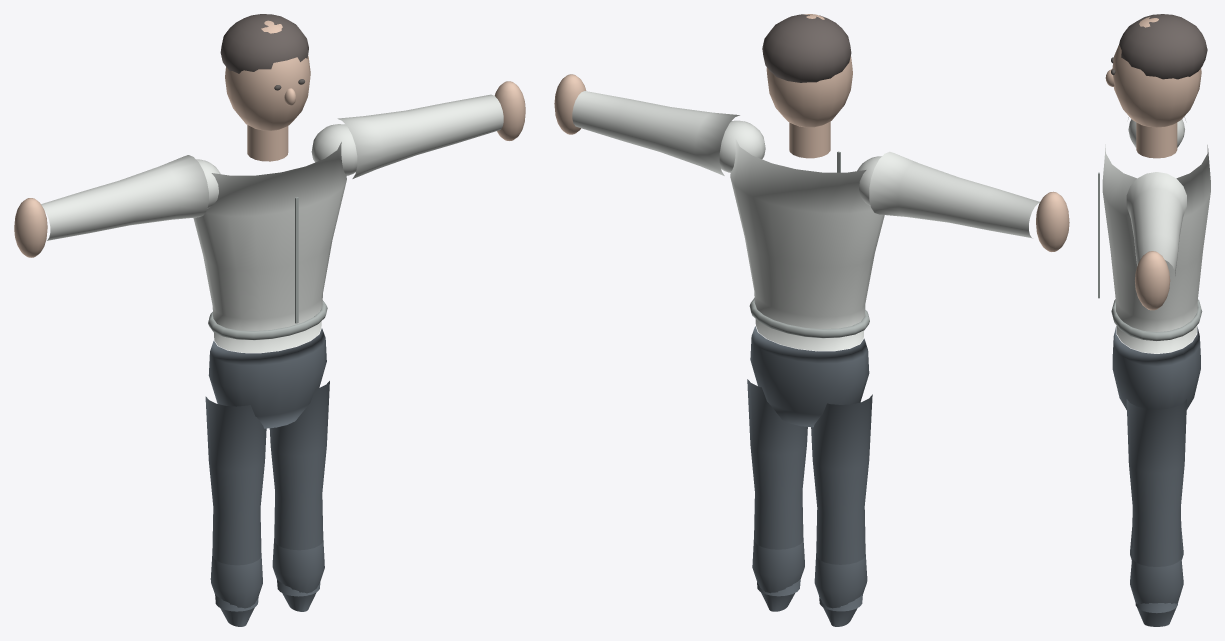
The model's file is original-player-b.glb.
3 views of the same model, side by side, from view 1: azimuth 30°, elevation 25°; view 2: azimuth 150°, elevation 25°; view 3: azimuth 270°, elevation 25° (orthographic).
Parts seen in each view (by area): view 1: FittedTop, FittedLeg_L, FittedArm_L, FittedLeg_R, FittedPelvis, FittedArm_R, Head, Hair, PointedFoot_R, PointedFoot_L, Hand_L, SoftShoulder_R (+3 smaller); view 2: FittedTop, FittedLeg_L, FittedArm_L, FittedLeg_R, FittedPelvis, FittedArm_R, Hair, Head, PointedFoot_L, PointedFoot_R, Hand_L, SoftShoulder_R (+3 smaller); view 3: FittedTop, FittedLeg_R, FittedPelvis, Hair, FittedArm_R, Head, PointedFoot_R, Hand_R, Neck, SoftWaistSeam, SoftShoulder_L, ClothCenterSeam.
Part boxes in pixels (bbox=[...]): FittedTop: bbox=[193, 142, 346, 352]; FittedLeg_L: bbox=[205, 396, 266, 611]; FittedArm_L: bbox=[41, 155, 208, 240]; FittedLeg_R: bbox=[269, 381, 329, 596]; FittedPelvis: bbox=[208, 328, 326, 428]; FittedArm_R: bbox=[337, 94, 503, 178]; Head: bbox=[225, 20, 310, 130]; Hair: bbox=[220, 14, 308, 73]; PointedFoot_R: bbox=[272, 538, 324, 611]; PointedFoot_L: bbox=[210, 553, 262, 626]; Hand_L: bbox=[14, 198, 47, 257]; SoftShoulder_R: bbox=[311, 124, 357, 175]; FittedTop: bbox=[730, 139, 884, 351]; FittedLeg_L: bbox=[811, 394, 872, 611]; FittedArm_L: bbox=[869, 151, 1039, 238]; FittedLeg_R: bbox=[747, 379, 807, 596]; FittedPelvis: bbox=[750, 326, 869, 427]; FittedArm_R: bbox=[572, 91, 739, 175]; Hair: bbox=[762, 14, 851, 82]; Head: bbox=[766, 14, 852, 127]; PointedFoot_L: bbox=[814, 553, 867, 626]; PointedFoot_R: bbox=[752, 538, 804, 611]; Hand_L: bbox=[1036, 191, 1069, 251]; SoftShoulder_R: bbox=[719, 120, 765, 172]; FittedTop: bbox=[1102, 144, 1210, 353]; FittedLeg_R: bbox=[1126, 399, 1186, 613]; FittedPelvis: bbox=[1112, 326, 1200, 409]; Hair: bbox=[1119, 14, 1207, 79]; FittedArm_R: bbox=[1126, 172, 1186, 275]; Head: bbox=[1112, 17, 1201, 127]; PointedFoot_R: bbox=[1130, 557, 1183, 626]; Hand_R: bbox=[1135, 251, 1170, 310]; Neck: bbox=[1136, 122, 1177, 158]; SoftWaistSeam: bbox=[1111, 299, 1202, 340]; SoftShoulder_L: bbox=[1128, 119, 1184, 147]; ClothCenterSeam: bbox=[1098, 172, 1099, 298].
Bounding box in the file's own units: 2.46 × 2.75 × 0.4765.
